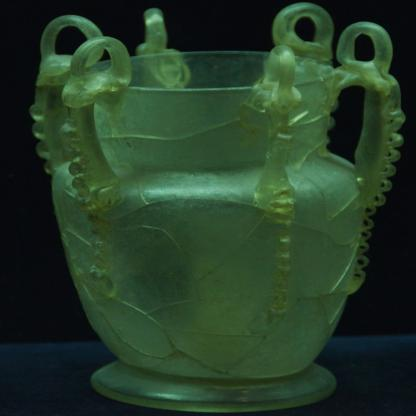vase: (27, 2, 406, 415)
